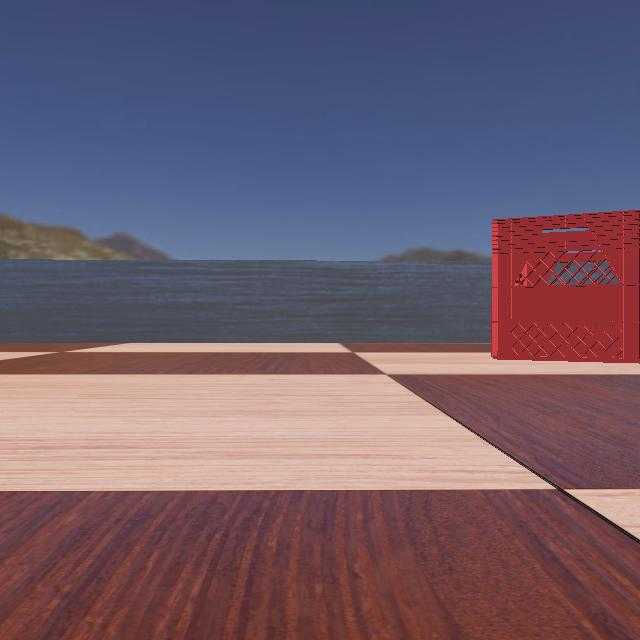plastic-crate: (465, 208, 639, 364)
